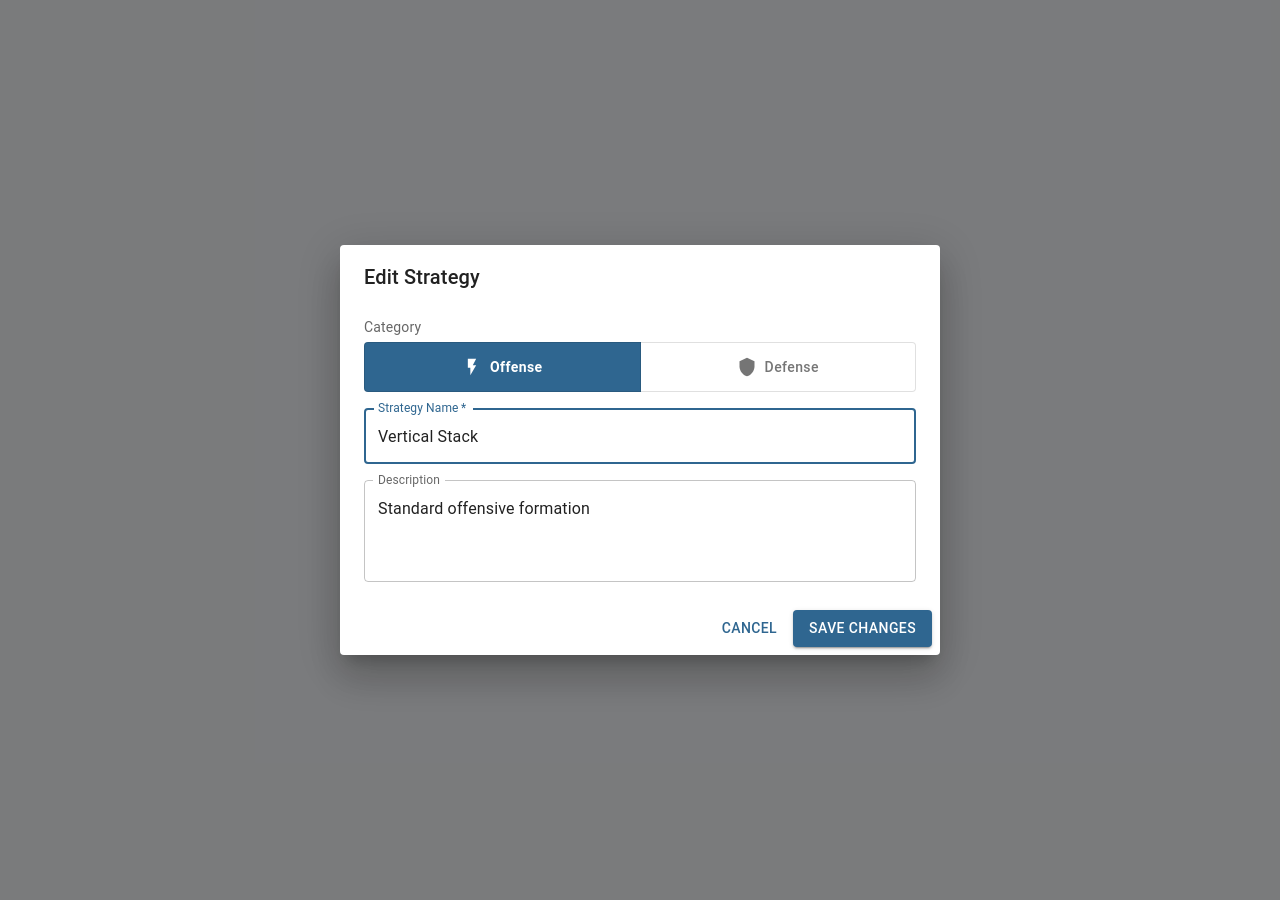
Test case: EditStrategyModal › disables save button when name is empty
The image size is (1280, 900).
Clear the field labelled "Strategy Name *" at (640, 436), box 364,408 -> 916,464
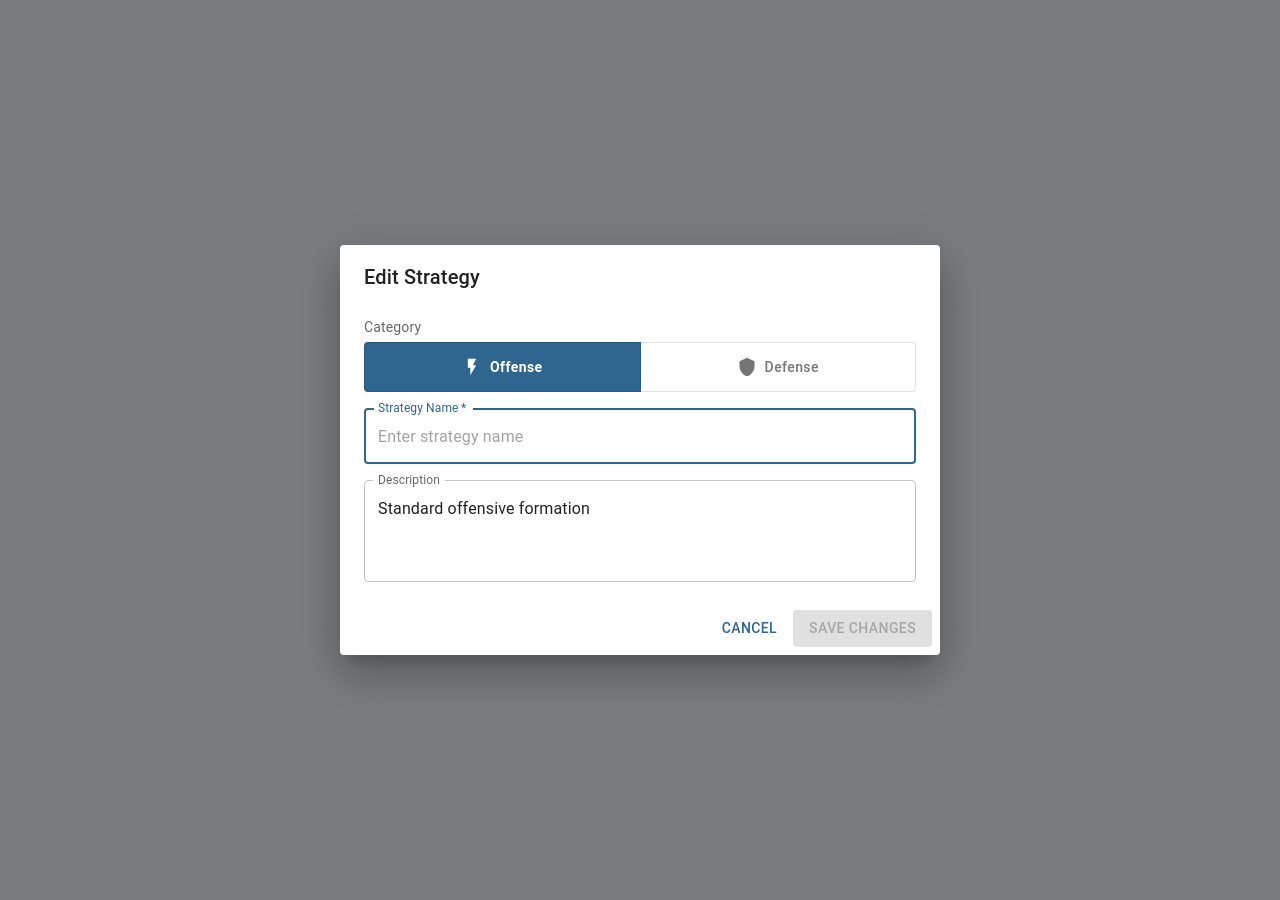
Expected: the button "Save Changes" is disabled, 793,610 -> 932,647
